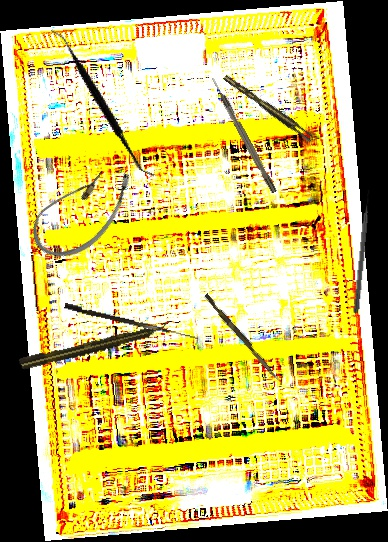Cannula: (21, 146, 144, 274)
Handpiece: (17, 320, 171, 372)
Hook Surgical: (209, 75, 278, 195), (63, 302, 200, 340)
Pusher: (202, 293, 283, 382), (353, 189, 373, 314)
Spatula Surgical: (13, 28, 193, 177)
Tissue Forceps: (222, 70, 315, 145)
